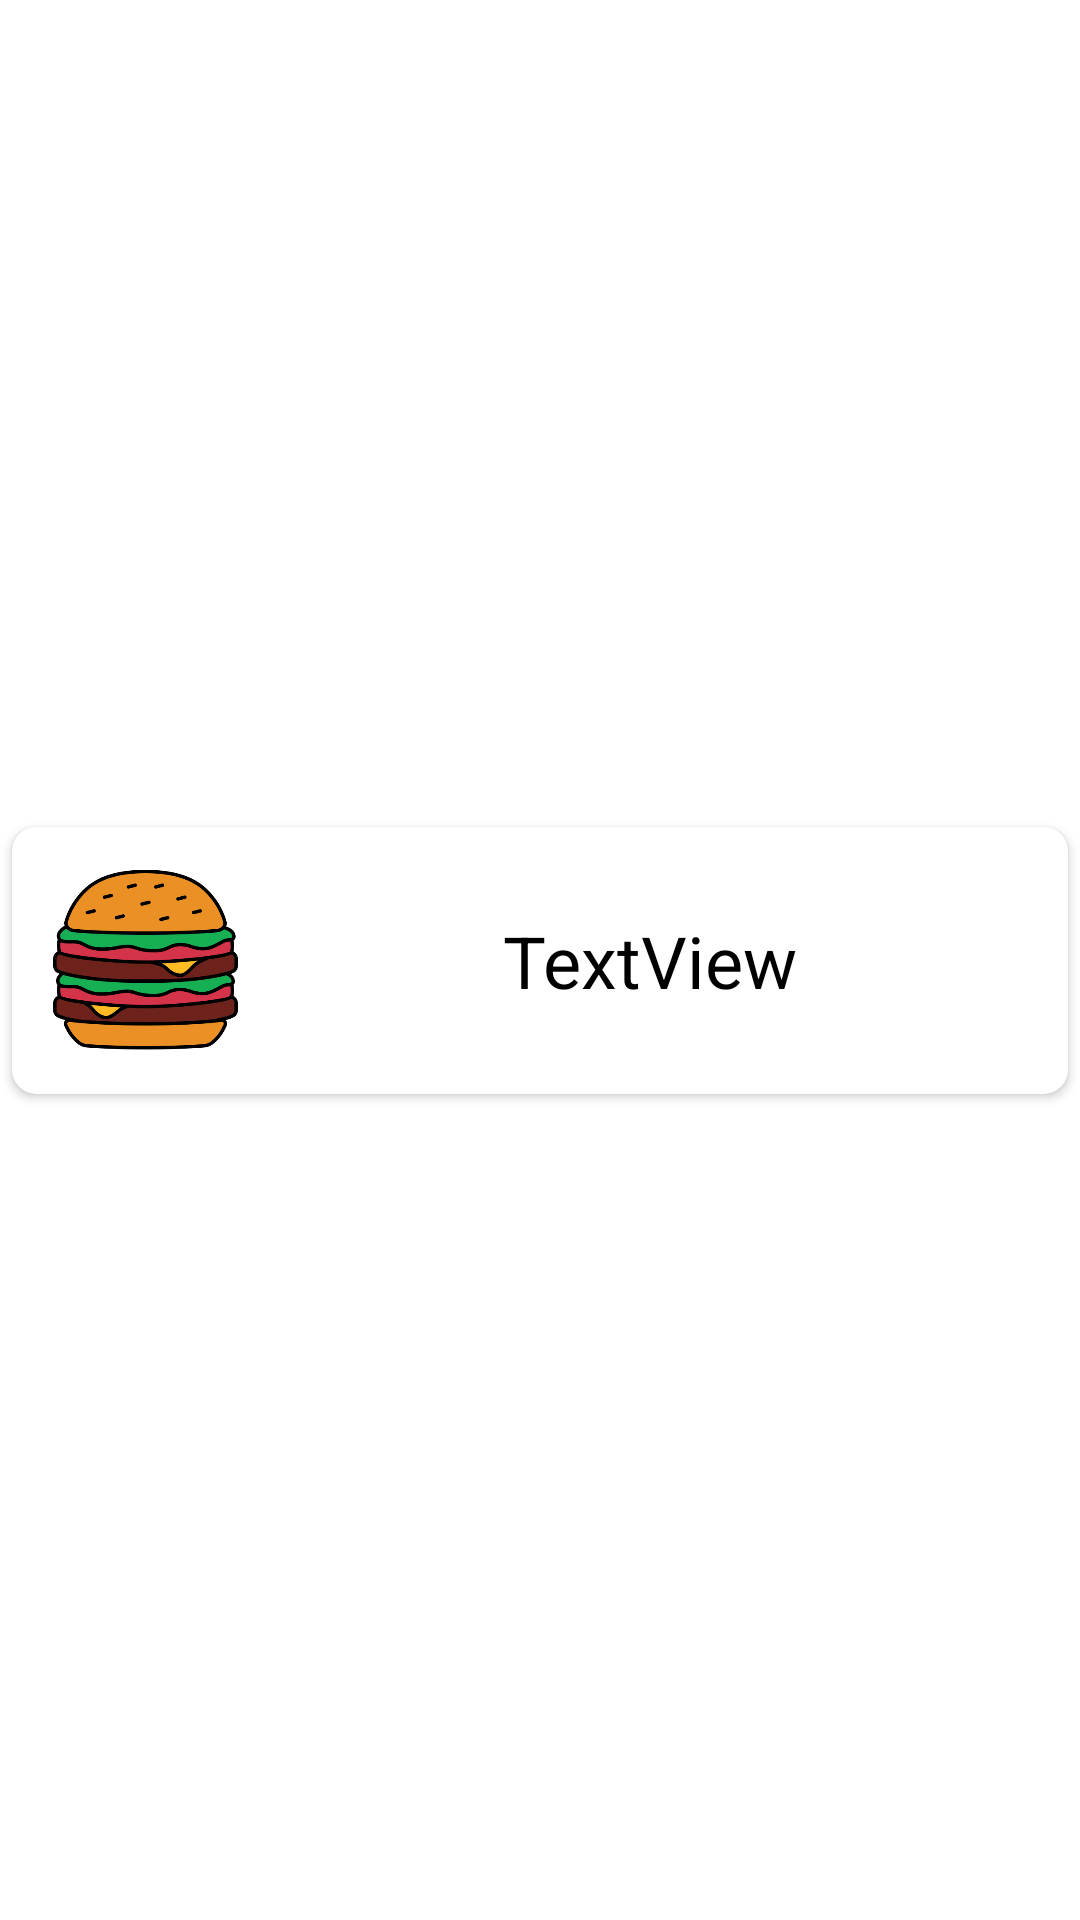

Icon bounding boxes for this 1080x1920 phone screenshot, format bbox(x1, y1, x2, y2):
burger: bbox(53, 870, 238, 1050)
